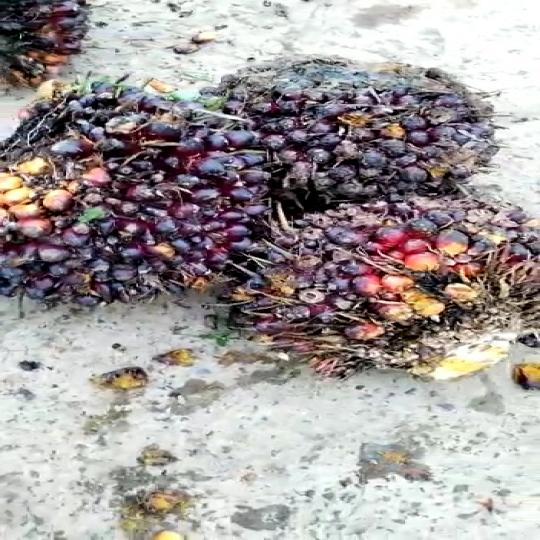kurang masak: (0, 76, 265, 315), (223, 197, 540, 394), (197, 53, 518, 196)
